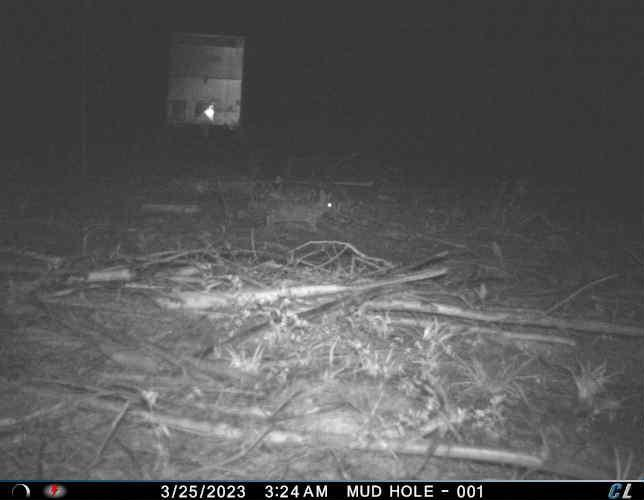Rabbit: (263, 189, 339, 236)
